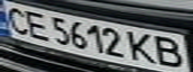1: (84, 22, 106, 54)
2: (100, 25, 127, 58)
5: (45, 15, 72, 47)
6: (66, 19, 87, 51)
B: (151, 34, 190, 70)
C: (0, 3, 33, 35)
E: (18, 8, 54, 41)
K: (124, 29, 160, 65)
